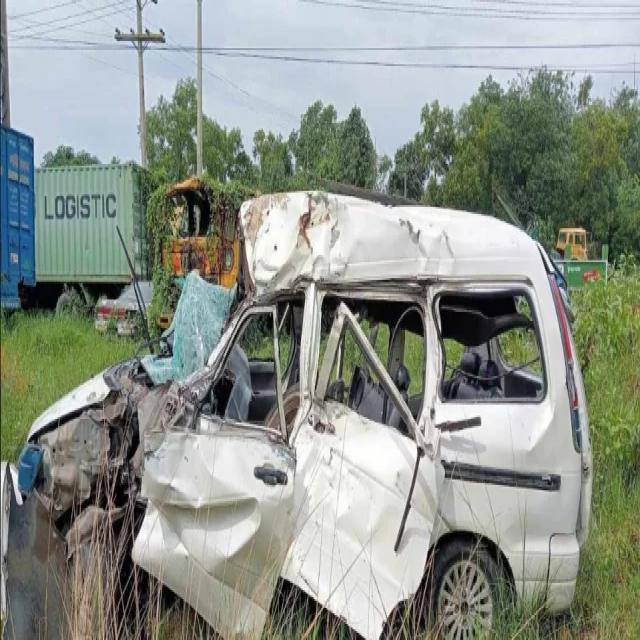Accident: (1, 178, 599, 640)
